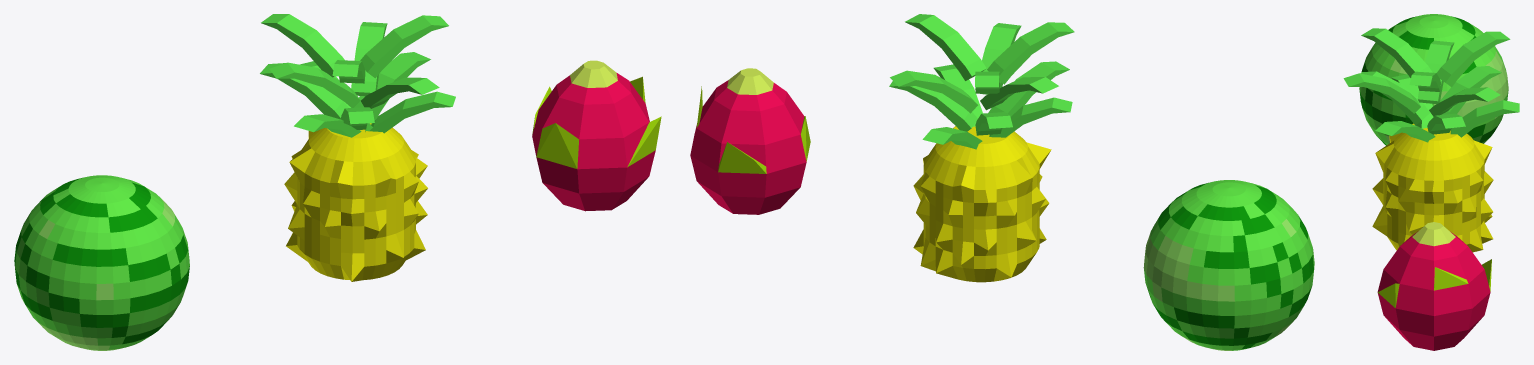
Rendered from Benjamin wants2.fbx.
3 views of the same model, side by side, from view 1: azimuth 30°, elevation 25°; view 2: azimuth 150°, elevation 25°; view 3: azimuth 270°, elevation 25° (orthographic). The views are drawn at different scales.
Visible parts, largest first — view 1: leaf.002, Sphere, doesn't look like a dragon; view 2: leaf.002, Sphere, doesn't look like a dragon; view 3: leaf.002, doesn't look like a dragon, Sphere.
Part boxes in pixels (x1=…): leaf.002: x1=260, y1=14, x2=455, y2=281; Sphere: x1=14, y1=175, x2=189, y2=350; doesn't look like a dragon: x1=532, y1=60, x2=661, y2=211; leaf.002: x1=889, y1=14, x2=1074, y2=282; Sphere: x1=1143, y1=180, x2=1314, y2=350; doesn't look like a dragon: x1=690, y1=68, x2=810, y2=214; leaf.002: x1=1343, y1=28, x2=1519, y2=252; doesn't look like a dragon: x1=1377, y1=222, x2=1491, y2=350; Sphere: x1=1359, y1=14, x2=1508, y2=145.
Bounding box in the file's own units: 1209 × 462 × 347.
